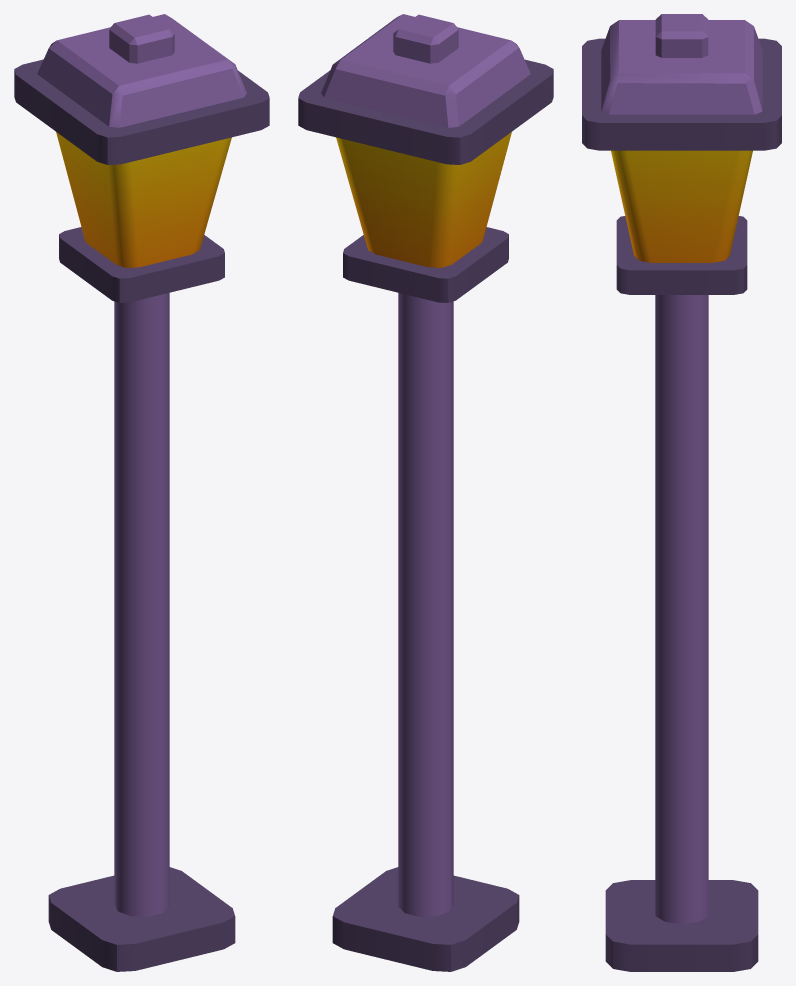
File: Street_light_1.fbx
The picture shows the model from 3 angles, left to right: view 1: azimuth 30°, elevation 25°; view 2: azimuth 150°, elevation 25°; view 3: azimuth 270°, elevation 25°; orthographic projection.
Parts seen in each view (by area): view 1: Street_light_1; view 2: Street_light_1; view 3: Street_light_1.
Boxes of the visible parts, box(x1,y1,x2,y2) form: Street_light_1: box(14, 14, 269, 971); Street_light_1: box(298, 14, 553, 971); Street_light_1: box(582, 14, 781, 971).
Bounding box in the file's own units: 130 × 660 × 130.
